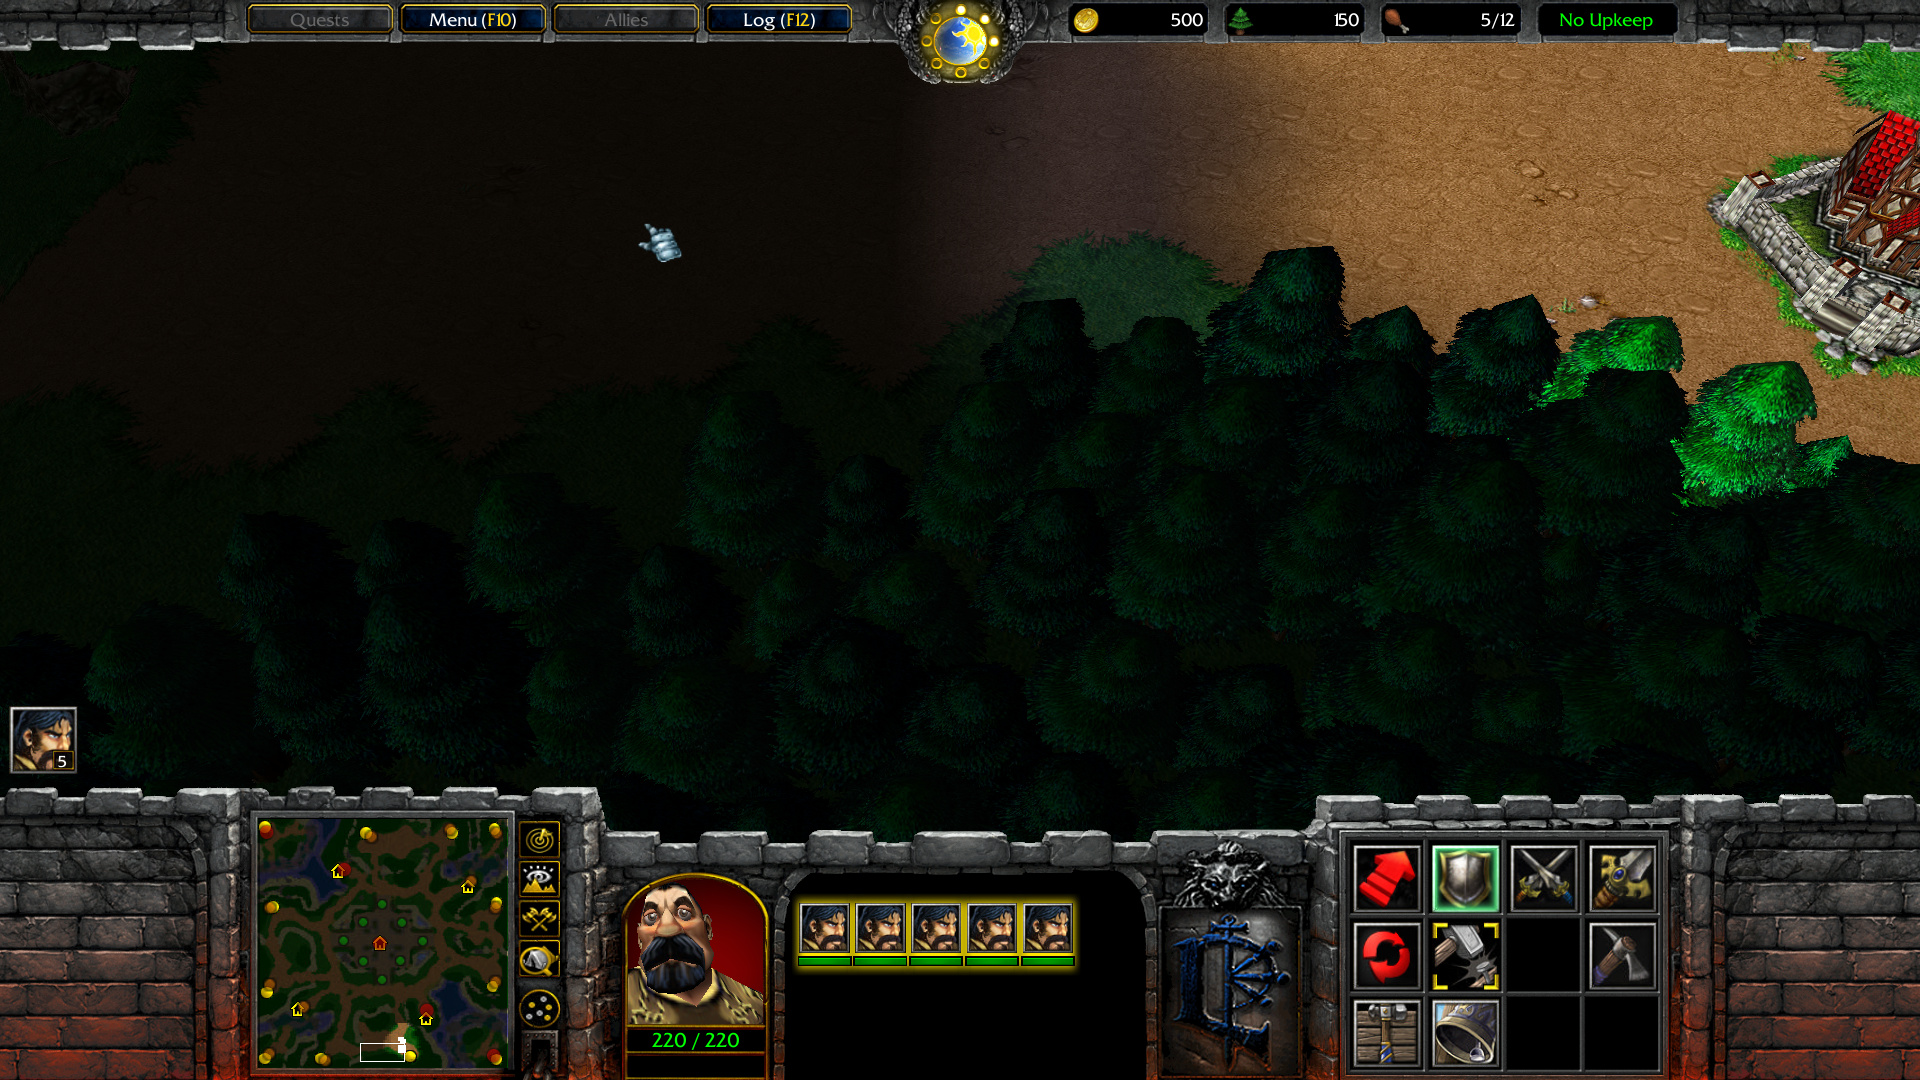Townhall: (1708, 113, 1920, 371)
